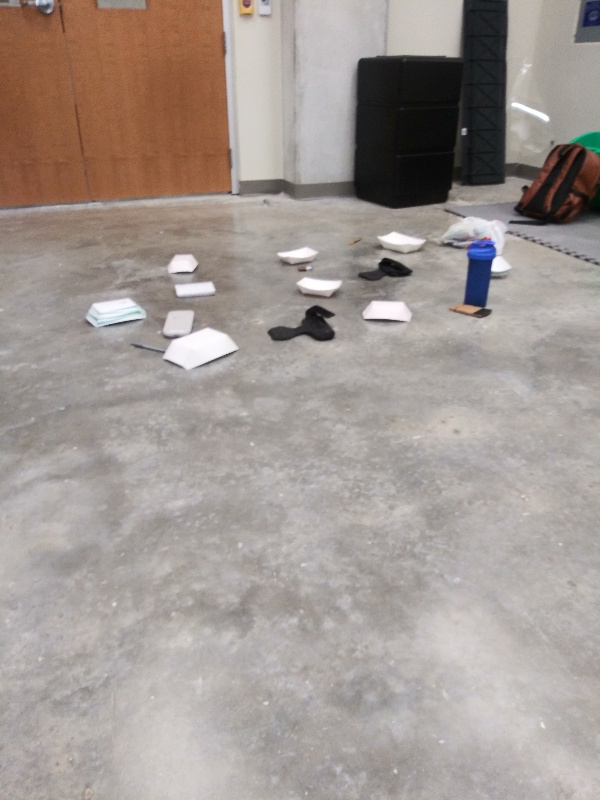plate: (156, 326, 240, 373), (83, 292, 151, 329), (358, 298, 415, 328), (370, 228, 433, 254), (269, 241, 325, 267), (295, 272, 345, 298), (167, 248, 202, 281), (490, 248, 516, 280)
